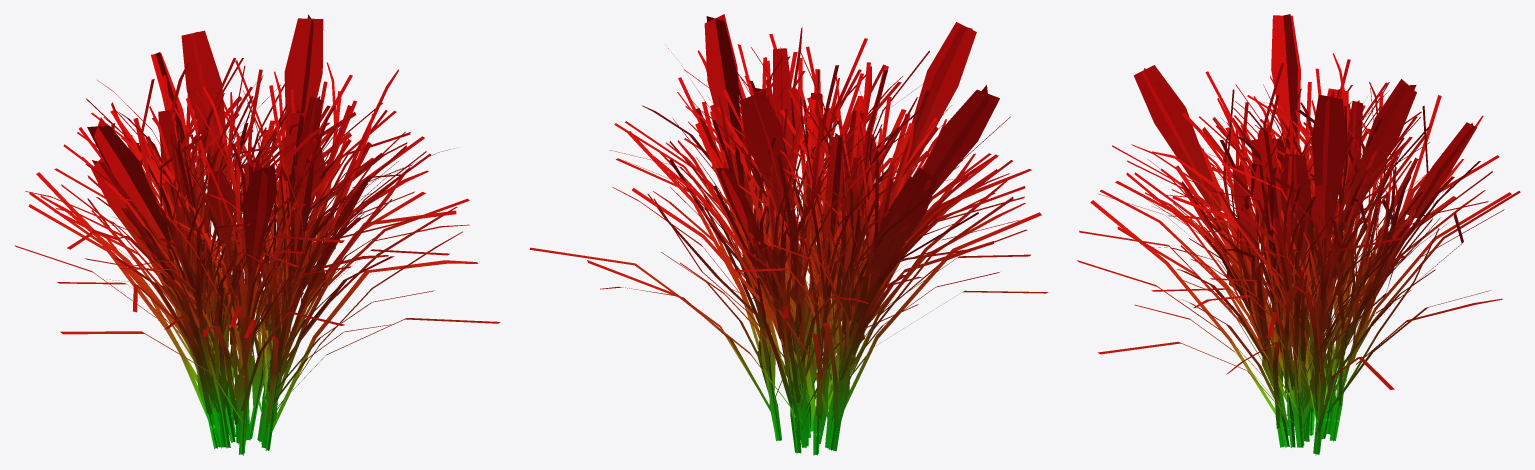
The model's file is Basket Grass_LOD3_Var4_slfpffjr.fbx.
3 views of the same model, side by side, from view 1: azimuth 30°, elevation 25°; view 2: azimuth 150°, elevation 25°; view 3: azimuth 270°, elevation 25° (orthographic). The views are drawn at different scales.
Parts seen in each view (by area): view 1: _c4a5_Var4_LOD3; view 2: _c4a5_Var4_LOD3; view 3: _c4a5_Var4_LOD3.
Boxes of the visible parts, <box> form: _c4a5_Var4_LOD3: <box>14,14,499,455</box>; _c4a5_Var4_LOD3: <box>529,14,1048,455</box>; _c4a5_Var4_LOD3: <box>1077,14,1520,455</box>.
Bounding box in the file's own units: 79.13 × 69.94 × 73.12.
